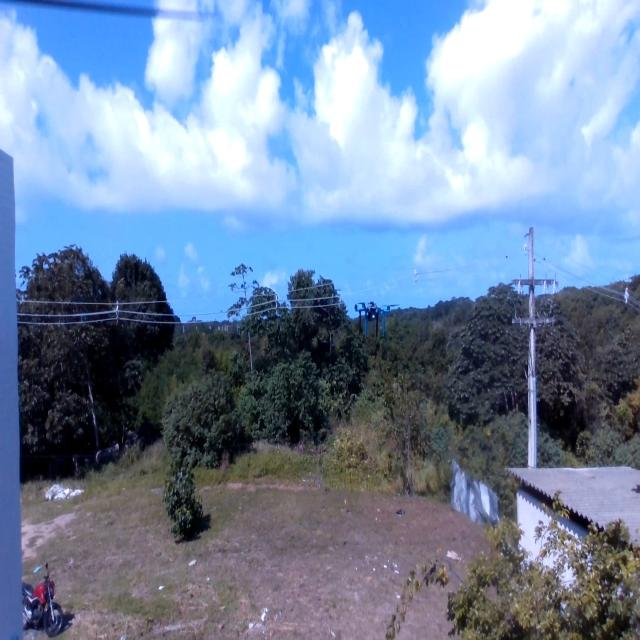-uav-: (348, 286, 402, 350)
